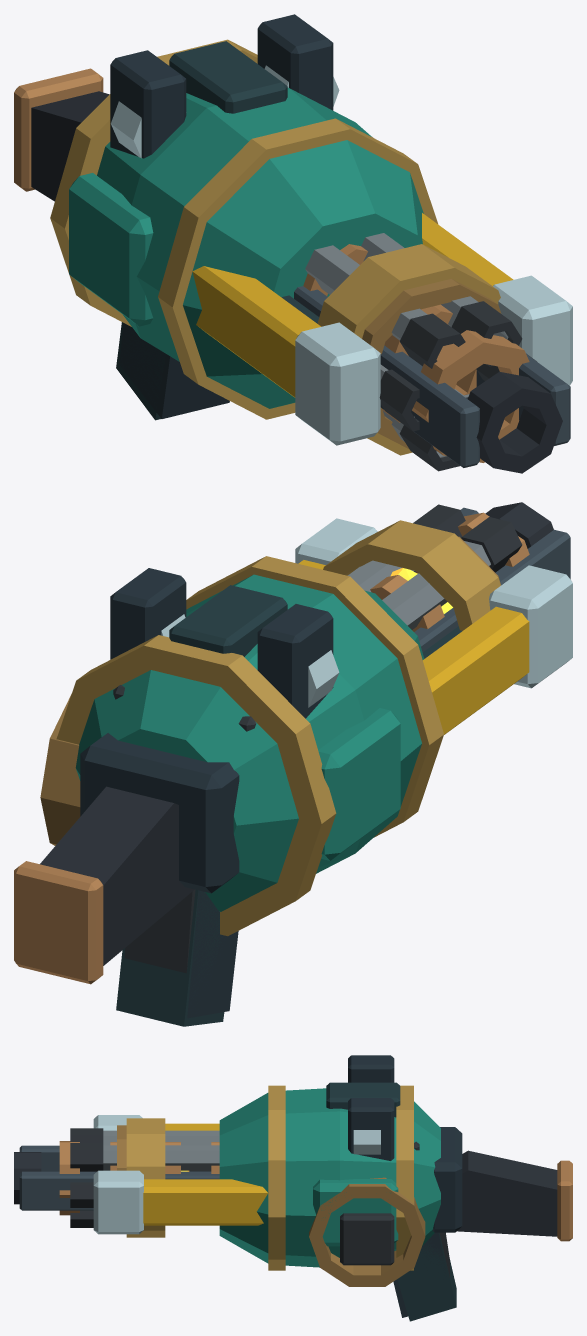
Rendered from tactical-guns.glb.
The picture shows the model from 3 angles, top to bottom: view 1: azimuth 30°, elevation 25°; view 2: azimuth 150°, elevation 25°; view 3: azimuth 270°, elevation 25°; orthographic projection. The views are drawn at different scales.
Parts seen in each view (by area): view 1: charge_nova_nova_teal, charge_nova_nova_brass, tesla_arc_tesla_tip, tesla_arc_tesla_dark, gauss_lancer_gauss_dark, tesla_arc_tesla_yellow, gauss_lancer_gauss_copper, charge_nova_nova_dark, gauss_lancer_gauss_steel, rotor_mg_dark, rotor_mg_steel, rotor_mg_brass; view 2: charge_nova_nova_teal, charge_nova_nova_brass, tesla_arc_tesla_dark, gauss_lancer_gauss_dark, charge_nova_nova_dark, gauss_lancer_gauss_copper, tesla_arc_tesla_tip, tesla_arc_tesla_yellow, minigun_shredder_mg_brass, minigun_shredder_mg_dark, rotor_mg_steel, gauss_lancer_gauss_steel (+1 smaller); view 3: charge_nova_nova_teal, charge_nova_nova_brass, gauss_lancer_gauss_dark, tesla_arc_tesla_dark, tesla_arc_tesla_yellow, minigun_shredder_mg_brass, charge_nova_nova_dark, tesla_arc_tesla_tip, gauss_lancer_gauss_steel, minigun_shredder_mg_dark, rotor_mg_steel, rotor_mg_dark (+2 smaller).
Part boxes in pixels (left/top/right/bottom): charge_nova_nova_teal: left=69, top=87, right=423, bottom=408; charge_nova_nova_brass: left=50, top=39, right=500, bottom=455; tesla_arc_tesla_tip: left=111, top=65, right=572, bottom=445; tesla_arc_tesla_dark: left=110, top=14, right=333, bottom=418; gauss_lancer_gauss_dark: left=31, top=91, right=562, bottom=473; tesla_arc_tesla_yellow: left=192, top=213, right=513, bottom=397; gauss_lancer_gauss_copper: left=14, top=68, right=529, bottom=462; charge_nova_nova_dark: left=116, top=41, right=319, bottom=420; gauss_lancer_gauss_steel: left=294, top=286, right=570, bottom=467; rotor_mg_dark: left=379, top=301, right=536, bottom=471; rotor_mg_steel: left=305, top=233, right=508, bottom=457; rotor_mg_brass: left=362, top=279, right=501, bottom=448; charge_nova_nova_teal: left=75, top=574, right=424, bottom=911; charge_nova_nova_brass: left=56, top=520, right=500, bottom=936; tesla_arc_tesla_dark: left=80, top=568, right=333, bottom=1018; gauss_lancer_gauss_dark: left=40, top=502, right=553, bottom=965; charge_nova_nova_dark: left=116, top=585, right=462, bottom=1026; gauss_lancer_gauss_copper: left=14, top=512, right=529, bottom=984; tesla_arc_tesla_tip: left=161, top=518, right=572, bottom=707; tesla_arc_tesla_yellow: left=298, top=560, right=529, bottom=734; minigun_shredder_mg_brass: left=40, top=694, right=80, bottom=845; minigun_shredder_mg_dark: left=113, top=685, right=256, bottom=973; rotor_mg_steel: left=347, top=541, right=490, bottom=629; gauss_lancer_gauss_steel: left=414, top=507, right=570, bottom=652; charge_nova_nova_teal: left=219, top=1088, right=440, bottom=1267; charge_nova_nova_brass: left=126, top=1085, right=413, bottom=1270; gauss_lancer_gauss_dark: left=14, top=1150, right=557, bottom=1236; tesla_arc_tesla_dark: left=348, top=1055, right=462, bottom=1317; tesla_arc_tesla_yellow: left=143, top=1123, right=267, bottom=1225; minigun_shredder_mg_brass: left=309, top=1177, right=425, bottom=1286; charge_nova_nova_dark: left=326, top=1082, right=456, bottom=1321; tesla_arc_tesla_tip: left=93, top=1115, right=380, bottom=1234; gauss_lancer_gauss_steel: left=19, top=1145, right=219, bottom=1210; minigun_shredder_mg_dark: left=340, top=1141, right=449, bottom=1277; rotor_mg_steel: left=103, top=1130, right=219, bottom=1171; rotor_mg_dark: left=70, top=1128, right=103, bottom=1227.
Size of the model in its own units: 0.5125 by 0.655 by 1.44.
